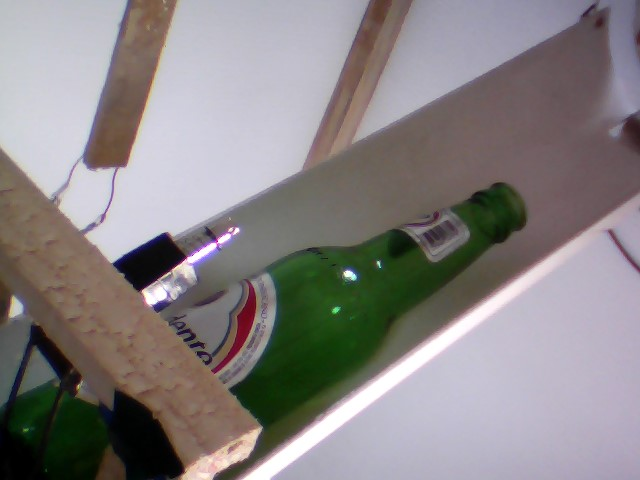vidrio: (177, 177, 545, 429)
